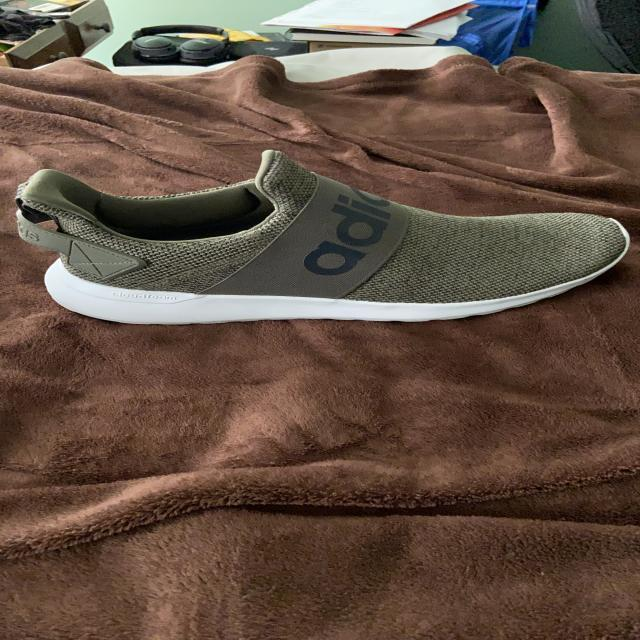shoe: (12, 150, 634, 326)
